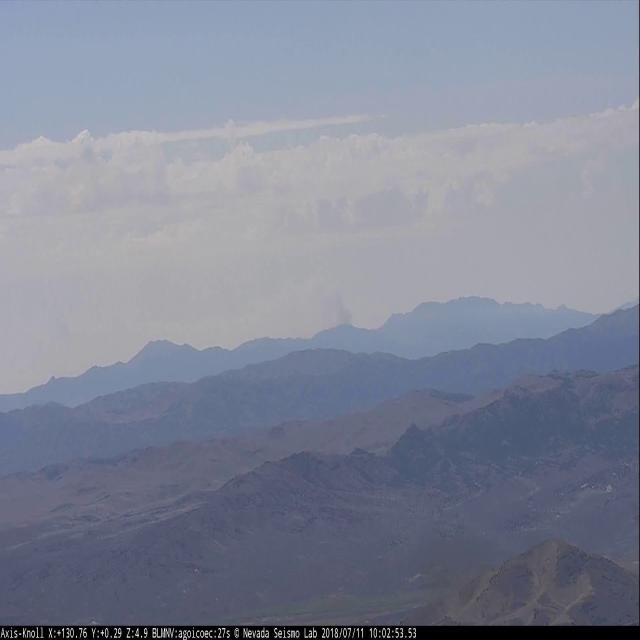smoke: (318, 286, 355, 327)
